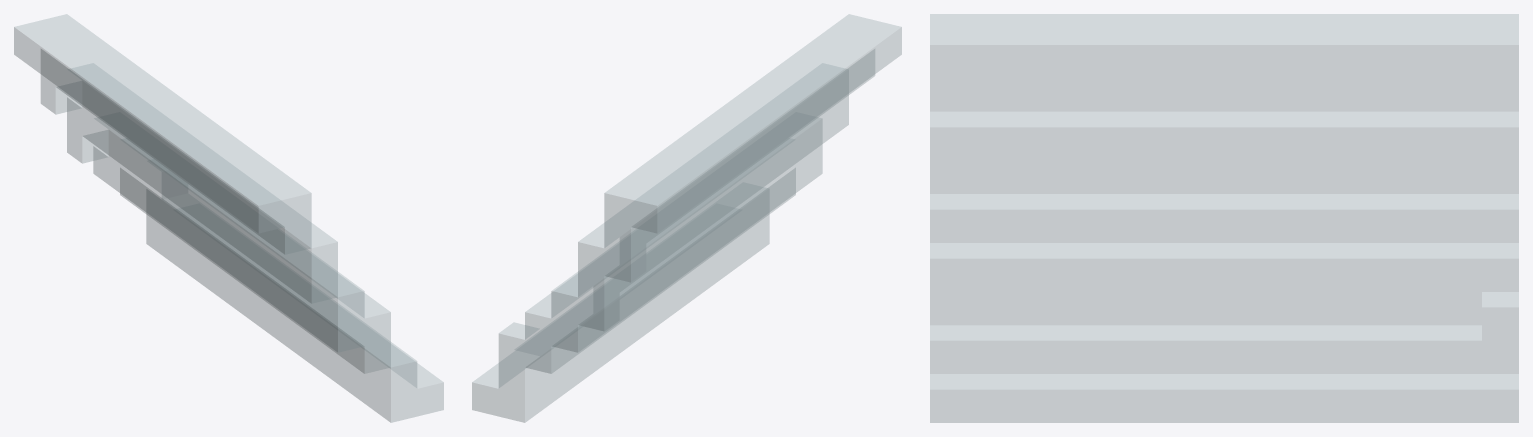
File: touring_bike_windscreen.glb
3 views of the same model, side by side, from view 1: azimuth 30°, elevation 25°; view 2: azimuth 150°, elevation 25°; view 3: azimuth 270°, elevation 25° (orthographic). The views are drawn at different scales.
Parts seen in each view (by area): view 1: body:compound; view 2: body:compound; view 3: body:compound.
Part boxes in pixels (x1,y1,x2,y2): body:compound: (14, 14, 443, 422); body:compound: (472, 14, 901, 422); body:compound: (930, 14, 1518, 422).
Size of the model in its own units: 0.2188 by 0.2812 by 0.5.
